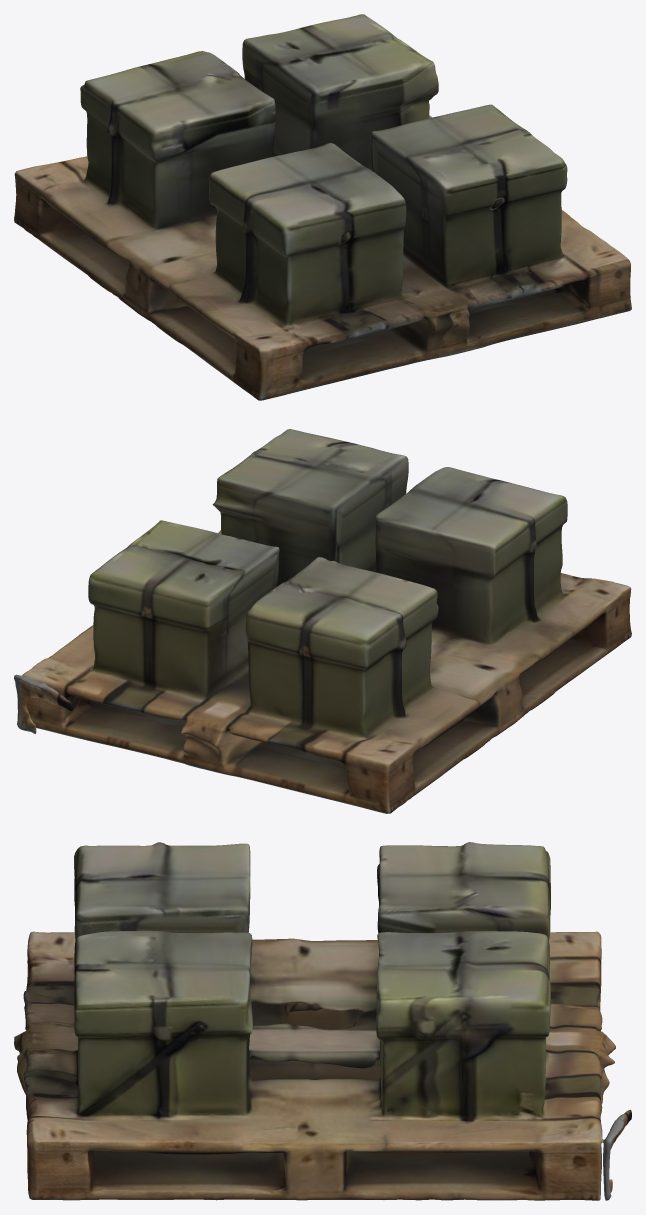
The model's file is pallet_463l.glb.
The picture shows the model from 3 angles, top to bottom: view 1: azimuth 30°, elevation 25°; view 2: azimuth 150°, elevation 25°; view 3: azimuth 270°, elevation 25°; orthographic projection. The views are drawn at different scales.
Visible parts, largest first — view 1: tripo_node_49b9ccdc-89f0-4ce7-a030-5be5fec0a5f4; view 2: tripo_node_49b9ccdc-89f0-4ce7-a030-5be5fec0a5f4; view 3: tripo_node_49b9ccdc-89f0-4ce7-a030-5be5fec0a5f4.
Part boxes in pixels (x1=…): tripo_node_49b9ccdc-89f0-4ce7-a030-5be5fec0a5f4: x1=14, y1=14, x2=631, y2=400; tripo_node_49b9ccdc-89f0-4ce7-a030-5be5fec0a5f4: x1=14, y1=429, x2=631, y2=813; tripo_node_49b9ccdc-89f0-4ce7-a030-5be5fec0a5f4: x1=14, y1=842, x2=631, y2=1200.
Size of the model in its own units: 0.6718 by 0.2624 by 0.8221.
1 material, 1 textured.
